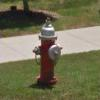Hydrant: (32, 8, 62, 91)
